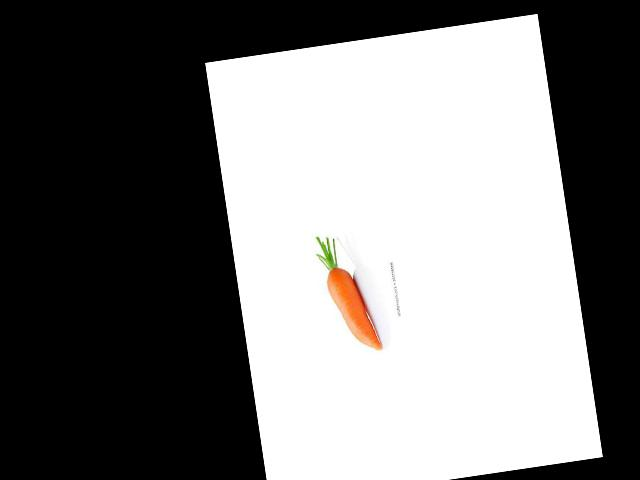carrot: (321, 260, 384, 360)
